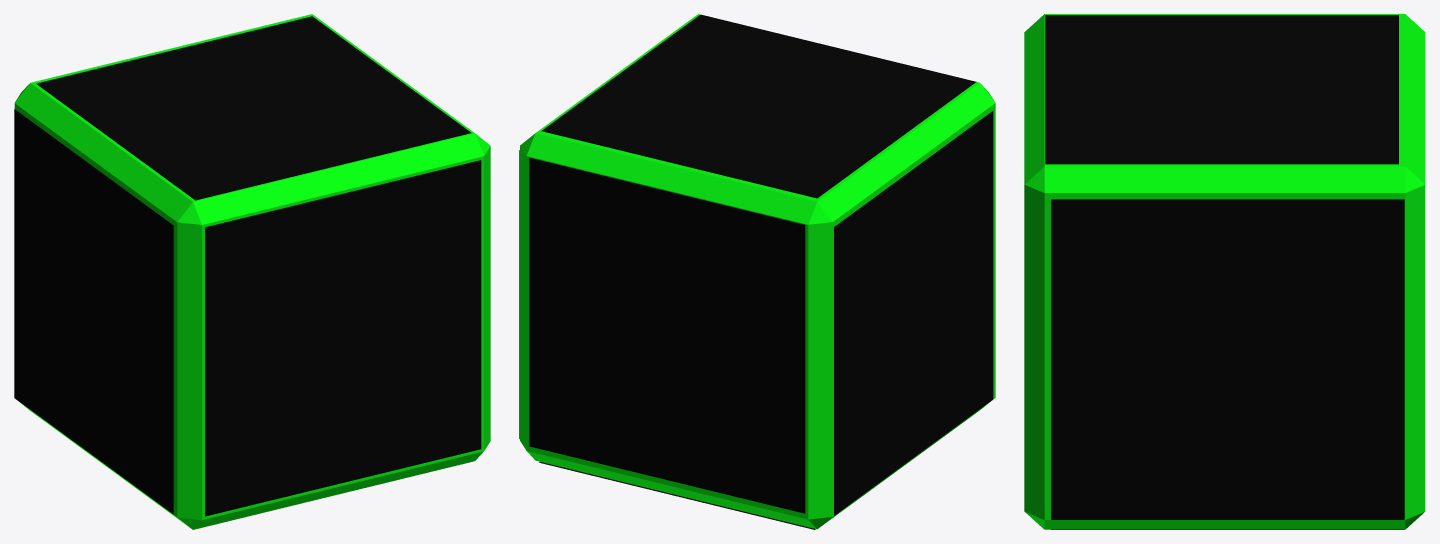
File: hallowCube.gltf
The picture shows the model from 3 angles, left to right: view 1: azimuth 30°, elevation 25°; view 2: azimuth 150°, elevation 25°; view 3: azimuth 270°, elevation 25°; orthographic projection. The views are drawn at different scales.
Visible parts, largest first — view 1: Plane, Plane.005, Plane.001, Cube; view 2: Plane.002, Plane.005, Plane.001, Cube; view 3: Plane.004, Plane.001, Cube.
Part boxes in pixels (x1,y1,x2,y2): Plane: (205,160,481,516); Plane.005: (14,109,173,514); Plane.001: (36,16,470,200); Cube: (14,14,490,529); Plane.002: (529,157,805,513); Plane.005: (834,111,993,515); Plane.001: (541,14,976,198); Cube: (520,14,995,529); Plane.004: (1051,199,1404,519); Plane.001: (1045,15,1398,164); Cube: (1024,14,1425,529).
Bounding box in the file's own units: 2.01 × 2.01 × 2.
